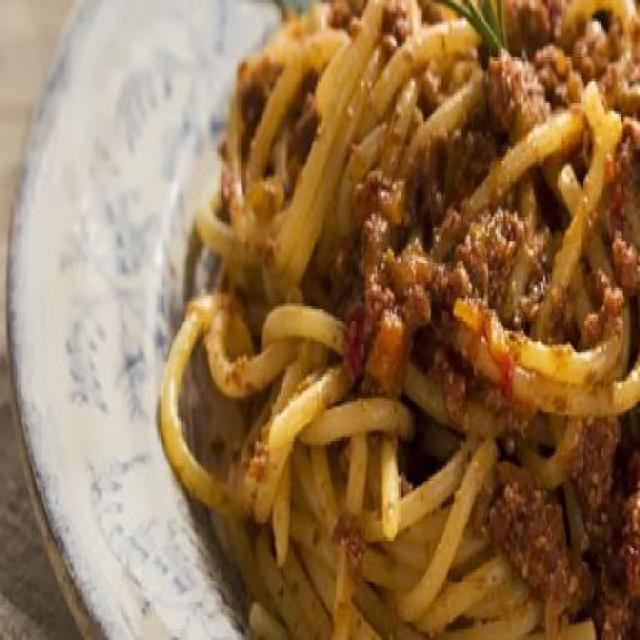Pasta al ragu: (190, 8, 638, 634)
